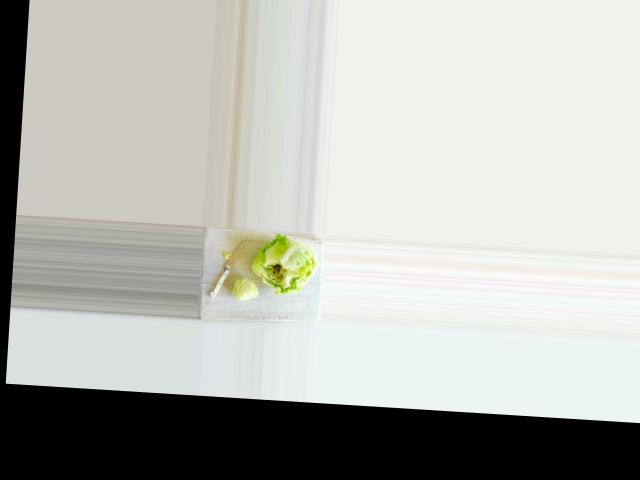lettuce: (256, 236, 322, 296)
